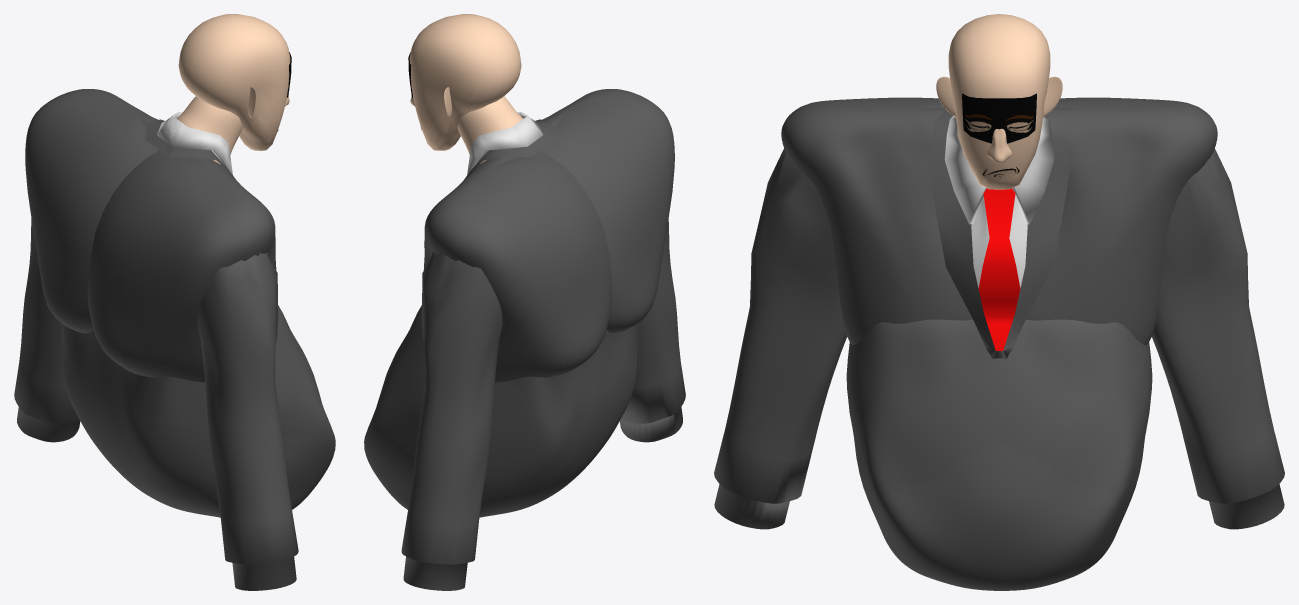
The model's file is BussinessMan.fbx.
3 views of the same model, side by side, from view 1: azimuth 30°, elevation 25°; view 2: azimuth 150°, elevation 25°; view 3: azimuth 270°, elevation 25° (orthographic). The views are drawn at different scales.
Visible parts, largest first — view 1: Pancia+Petto, Braccia, Pancia, Volto, Collo, Colletto, Apertura giacca; view 2: Pancia+Petto, Braccia, Pancia, Volto, Collo, Colletto, Apertura giacca; view 3: Pancia, Braccia, Pancia+Petto, Volto, Apertura giacca, Cravatta, Colletto, Camicia, Orecchie.
Part boxes in pixels (x1,y1,x2,y2): Pancia+Petto: (25,89,278,382); Braccia: (14,218,298,590); Pancia: (61,305,335,517); Volto: (178,14,291,150); Collo: (177,96,242,164); Colletto: (157,112,232,174); Apertura giacca: (145,119,235,179); Pancia+Petto: (422,89,674,382); Braccia: (401,219,685,590); Pancia: (364,305,638,517); Volto: (408,14,521,150); Collo: (457,96,522,164); Colletto: (467,112,542,175); Apertura giacca: (463,119,554,180); Pancia: (846,319,1152,590); Braccia: (714,148,1284,529); Pancia+Petto: (781,97,1217,345); Volto: (948,14,1050,189); Apertura giacca: (928,108,1070,358); Cravatta: (978,188,1020,350); Colletto: (944,115,1054,224); Camicia: (971,196,1027,288); Orecchie: (936,76,1062,116).
Bounding box in the file's own units: 377 × 774 × 726.
